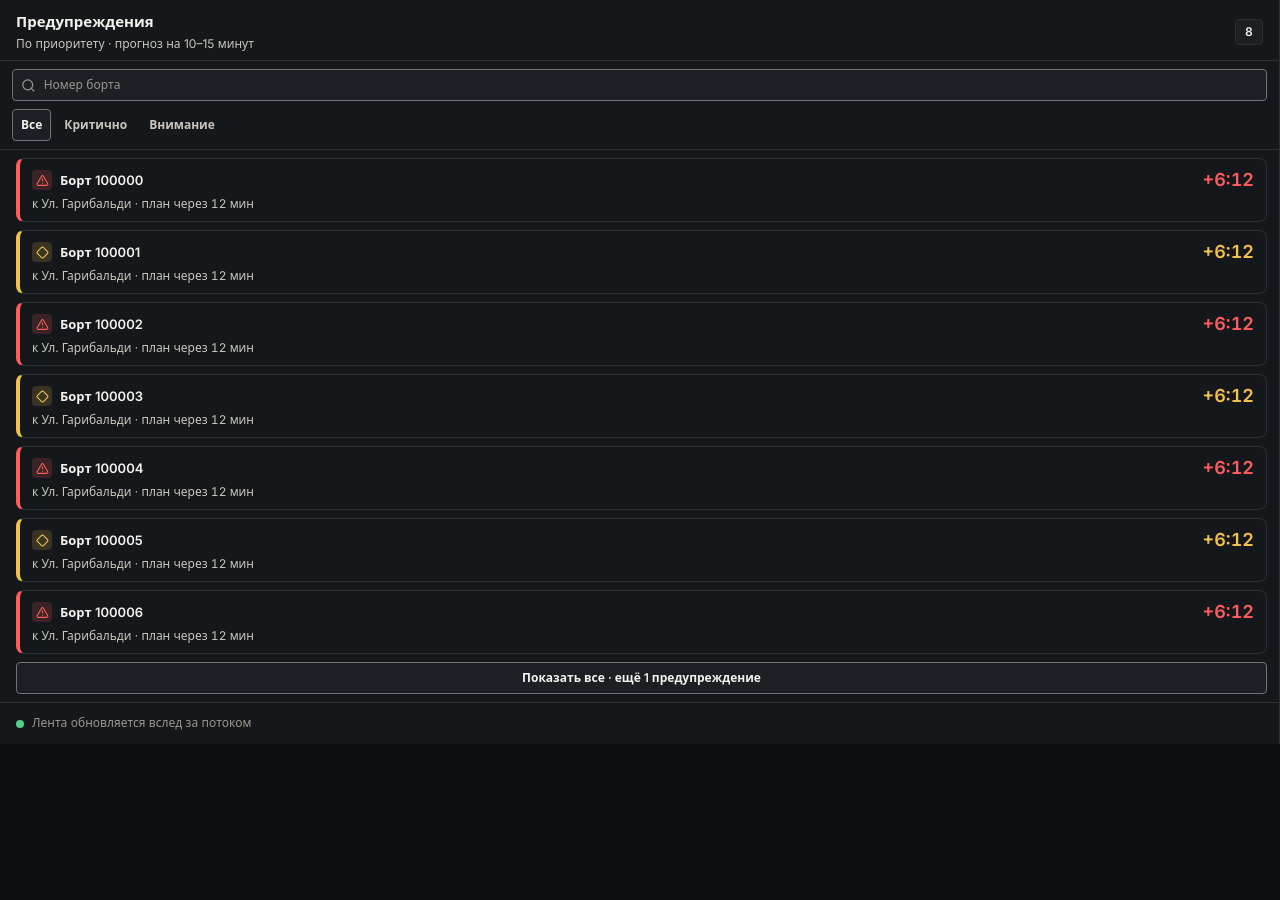
Scenario: AlertList › the eighth alert is behind «Показать все» and can be collapsed again
The image size is (1280, 900).
Click the button "Показать все · ещё 1 предупреждение".
click(642, 678)  # box [16,662,1267,694]
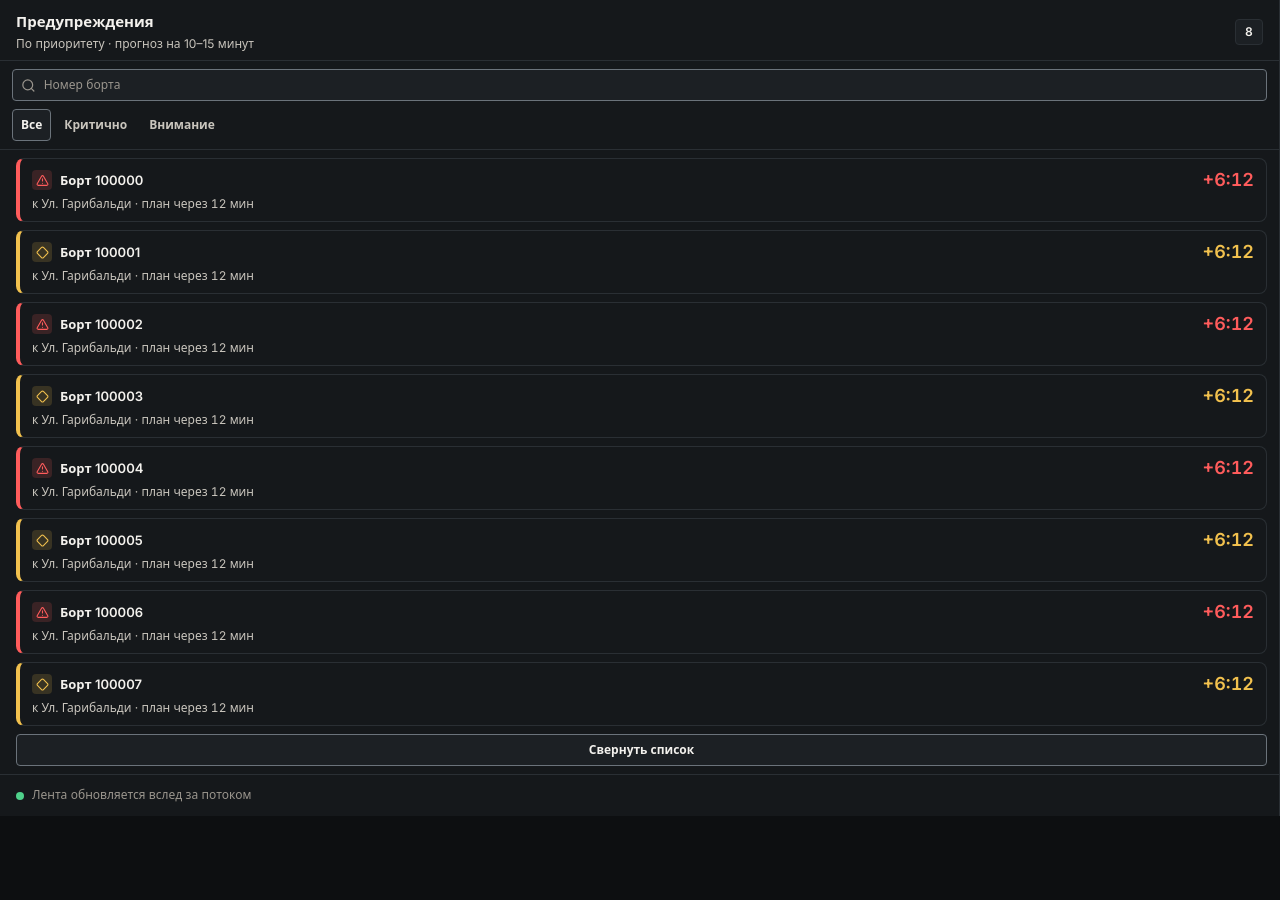
Expected: the number of buttons "Борт 100000 +6:12 к Ул. Гарибальди · план через 12 мин" is 8
Click the button "Свернуть список".
click(642, 750)  # box [16,734,1267,766]
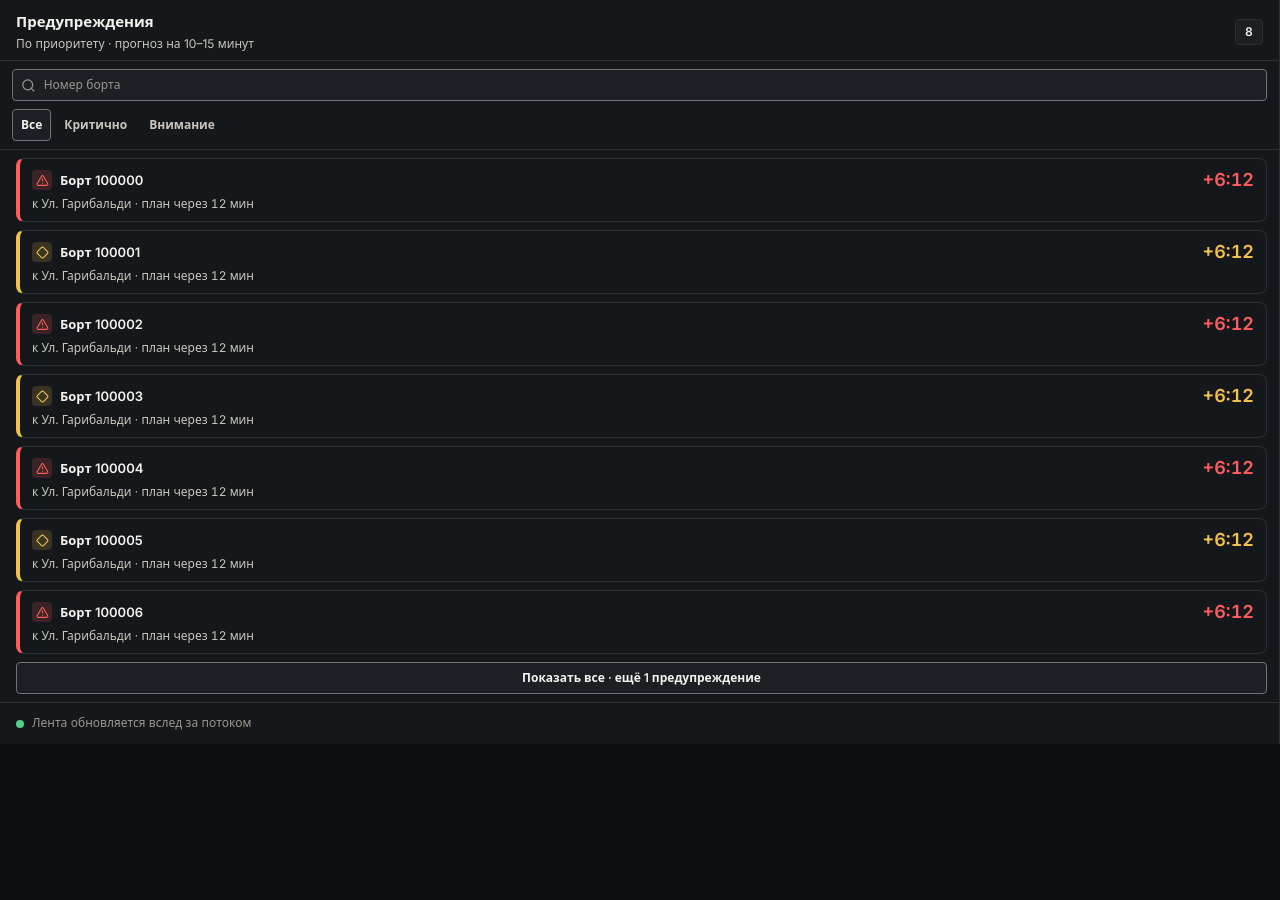
Expected: the number of buttons "Борт 100000 +6:12 к Ул. Гарибальди · план через 12 мин" is 7
